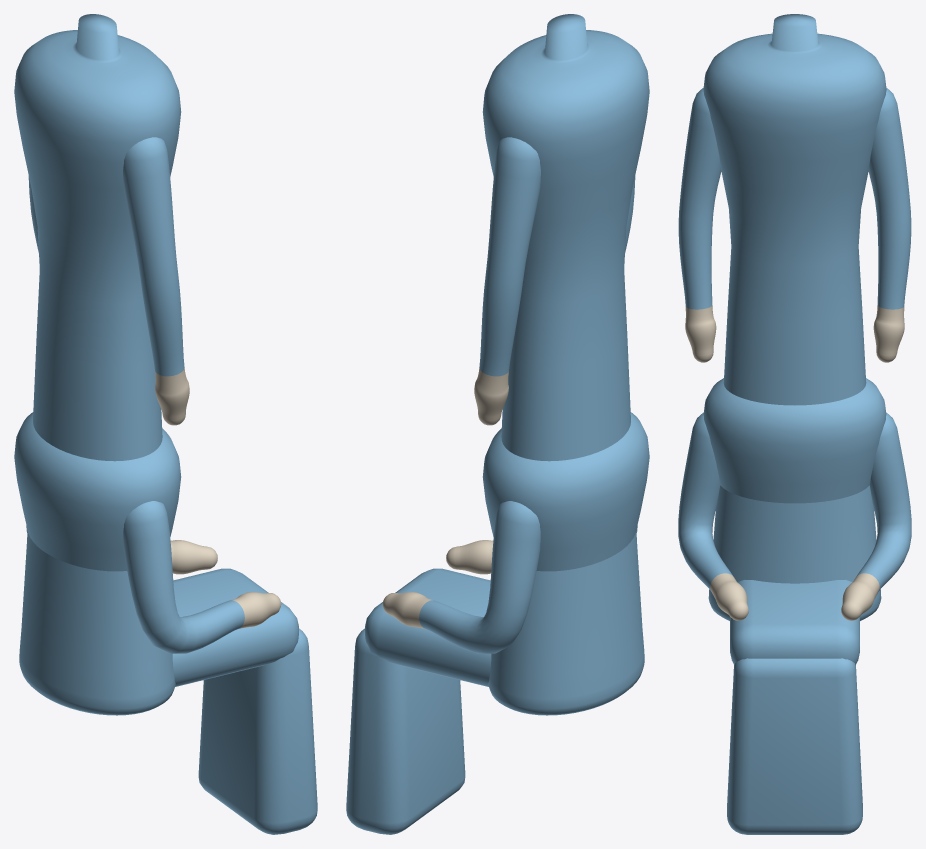
The model's file is People.glb.
3 views of the same model, side by side, from view 1: azimuth 30°, elevation 25°; view 2: azimuth 150°, elevation 25°; view 3: azimuth 270°, elevation 25° (orthographic). The views are drawn at different scales.
Visible parts, largest first — view 1: figure__body, figure__seated; view 2: figure__body, figure__seated; view 3: figure__body, figure__seated.
Boxes of the visible parts, x1,y1,x2,y2 form: figure__body: (14,14,189,715); figure__seated: (14,412,317,834); figure__body: (474,14,649,715); figure__seated: (346,412,649,834); figure__body: (678,14,911,620); figure__seated: (678,378,911,834).
Size of the model in its own units: 0.6326 by 1.95 by 0.5578.
